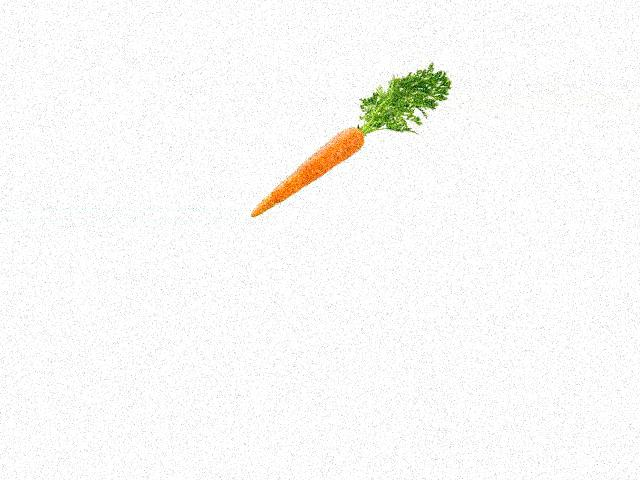carrot: (246, 125, 368, 220)
